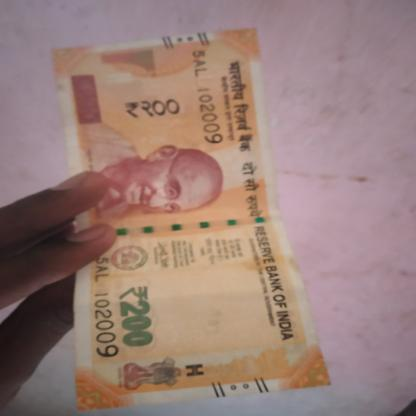New200Front: (65, 50, 303, 396)
